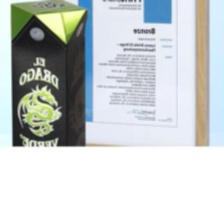carton: (0, 0, 88, 147)
